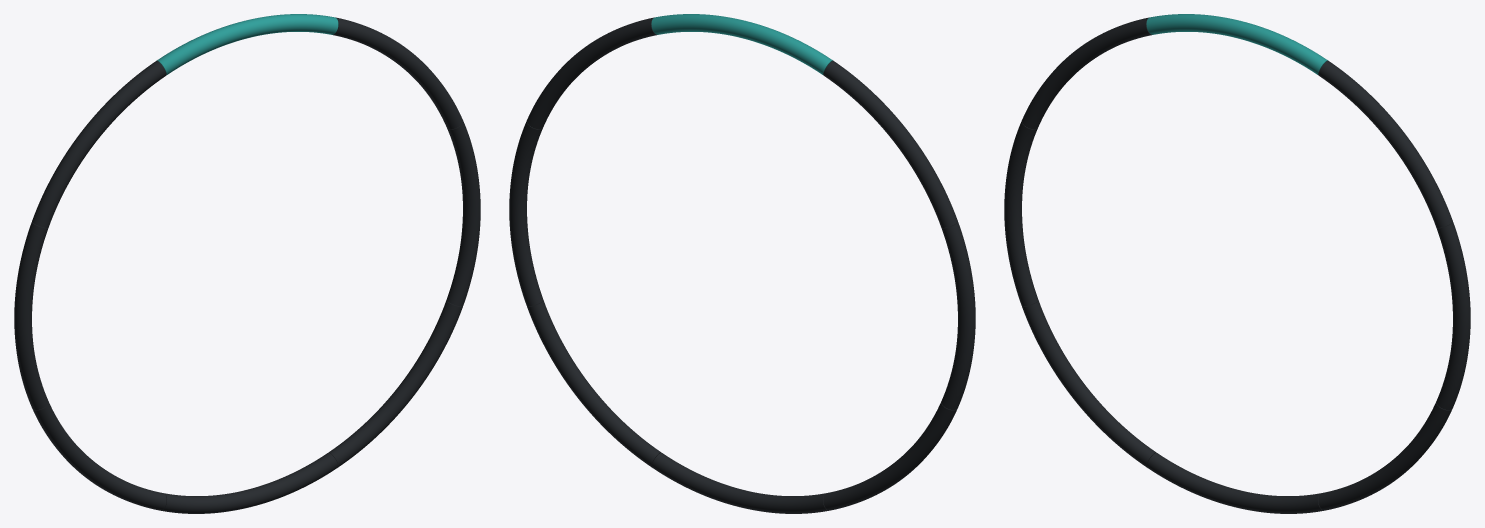
File: full.fbx
The picture shows the model from 3 angles, left to right: view 1: azimuth 30°, elevation 25°; view 2: azimuth 150°, elevation 25°; view 3: azimuth 330°, elevation 25°; orthographic projection.
Visible parts, largest first — view 1: Padded section 2, Padded section 6, Padded section 3, Padded section 1, Padded section 7, Padded section 5, Padded section 4, Padded section 0; view 2: Padded section 2, Padded section 6, Padded section 3, Padded section 1, Padded section 7, Padded section 5, Padded section 4, Padded section 0; view 3: Padded section 0, Padded section 4, Padded section 7, Padded section 1, Padded section 3, Padded section 5, Padded section 6, Padded section 2.
Part boxes in pixels (x1,y1,x2,y2): Padded section 2: (32,60,166,227); Padded section 6: (329,300,462,466); Padded section 3: (14,222,48,409); Padded section 1: (157,14,338,74); Padded section 7: (446,120,480,306); Padded section 5: (161,452,338,513); Padded section 4: (32,401,166,510); Padded section 0: (332,17,462,129); Padded section 2: (823,60,957,227); Padded section 6: (527,300,660,466); Padded section 3: (941,222,975,409); Padded section 1: (651,14,832,74); Padded section 7: (509,120,543,306); Padded section 5: (651,452,828,513); Padded section 4: (823,401,957,510); Padded section 0: (527,17,657,129); Padded section 0: (1318,60,1452,227); Padded section 4: (1022,300,1155,466); Padded section 7: (1436,222,1470,409); Padded section 1: (1146,14,1327,74); Padded section 3: (1004,120,1038,306); Padded section 5: (1146,452,1323,513); Padded section 6: (1318,401,1452,510); Padded section 2: (1022,17,1152,129).
Size of the model in its own units: 90 by 90 by 3.
